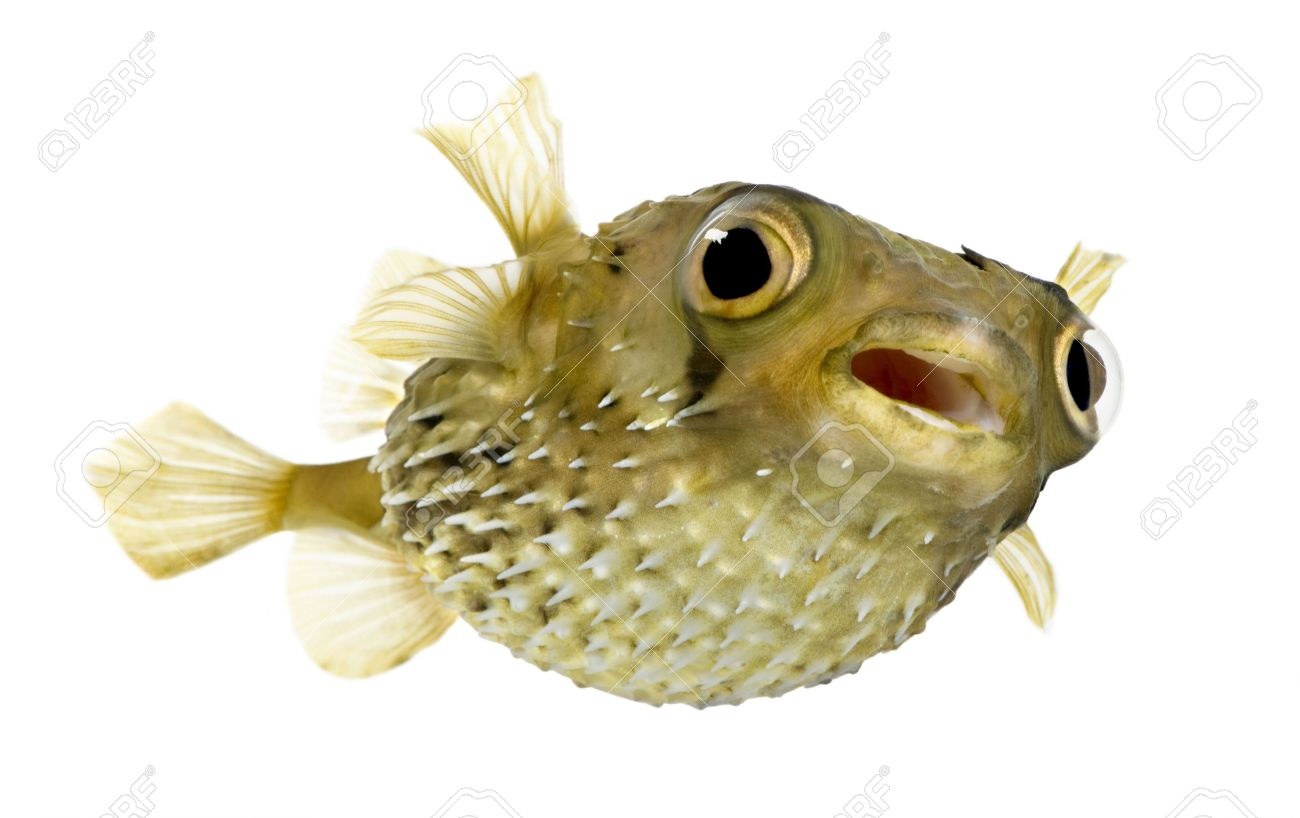Diodon_holocanthus: (41, 64, 1154, 743)
